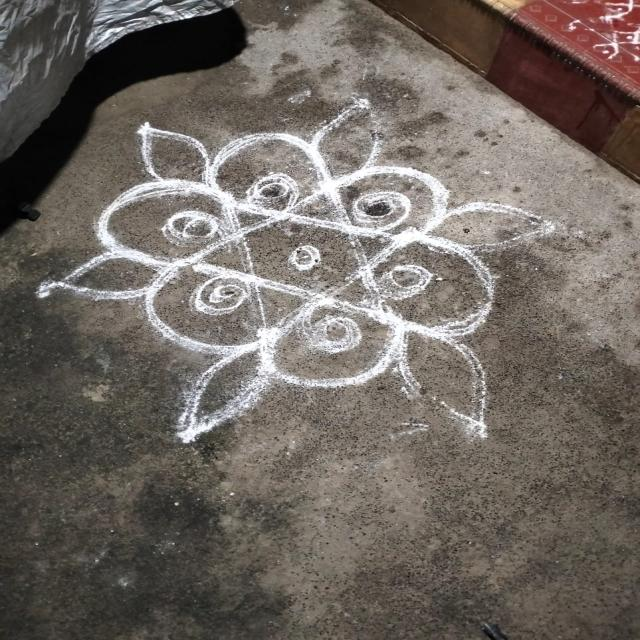rangoli: (44, 97, 556, 450)
